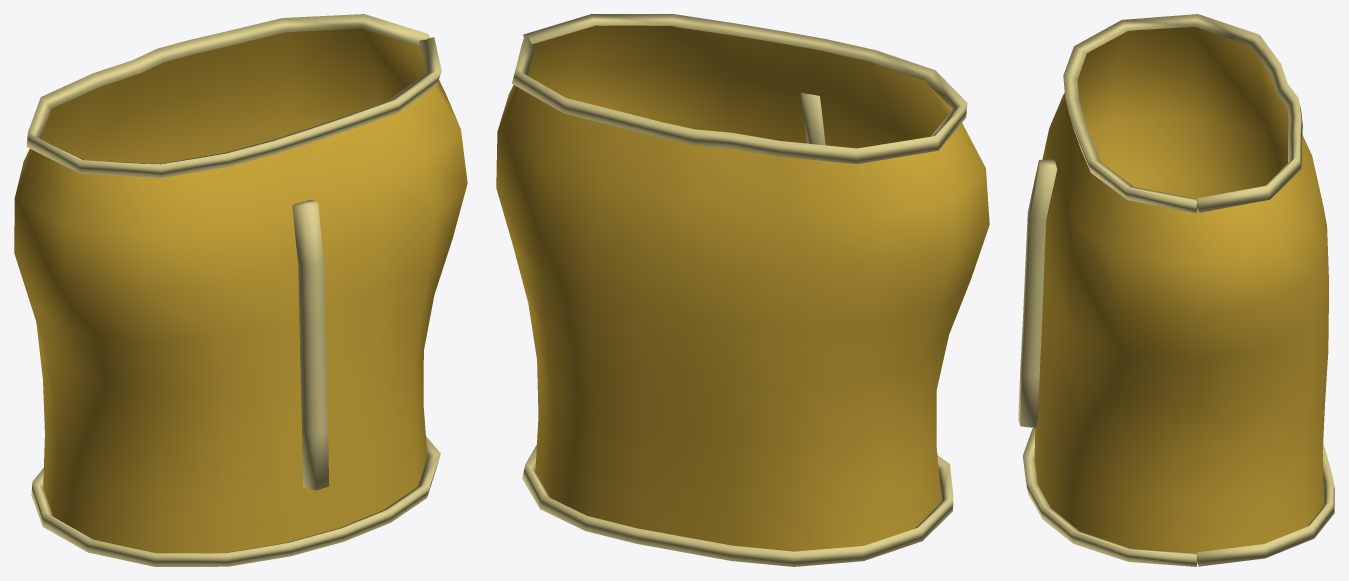
Rendered from gold_armor_chest.glb.
The picture shows the model from 3 angles, left to right: view 1: azimuth 30°, elevation 25°; view 2: azimuth 150°, elevation 25°; view 3: azimuth 270°, elevation 25°; orthographic projection. The views are drawn at different scales.
Parts seen in each view (by area): view 1: gold_armor_chest; view 2: gold_armor_chest; view 3: gold_armor_chest.
Boxes of the visible parts, x1,y1,x2,y2 form: gold_armor_chest: (14, 14, 467, 566); gold_armor_chest: (496, 14, 989, 566); gold_armor_chest: (1018, 14, 1334, 566).
Bounding box in the file's own units: 0.4364 × 0.3859 × 0.2937.
